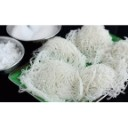idiyappam: (23, 62, 85, 101), (69, 24, 115, 61), (80, 62, 120, 98), (34, 39, 83, 65), (110, 38, 128, 70)
